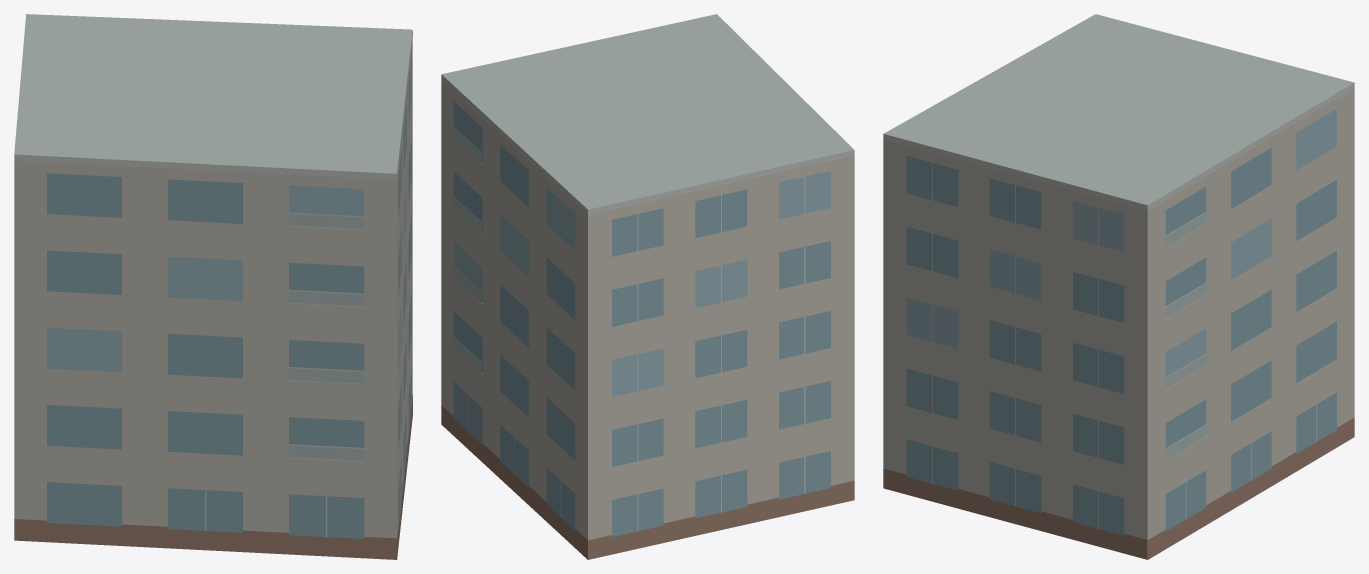
The model's file is survey-upis-32731069.glb.
3 renders of one model, left to right at view 1: azimuth 30°, elevation 25°; view 2: azimuth 150°, elevation 25°; view 3: azimuth 270°, elevation 25°, orthographic. The views are drawn at different scales.
Visible parts, largest first — view 1: survey-upis-32731069.tmp; view 2: survey-upis-32731069.tmp; view 3: survey-upis-32731069.tmp.
Boxes of the visible parts, x1,y1,x2,y2 form: survey-upis-32731069.tmp: [14, 14, 412, 559]; survey-upis-32731069.tmp: [441, 14, 854, 559]; survey-upis-32731069.tmp: [883, 14, 1354, 559].
Size of the model in its own units: 17.66 by 15.25 by 18.37.
